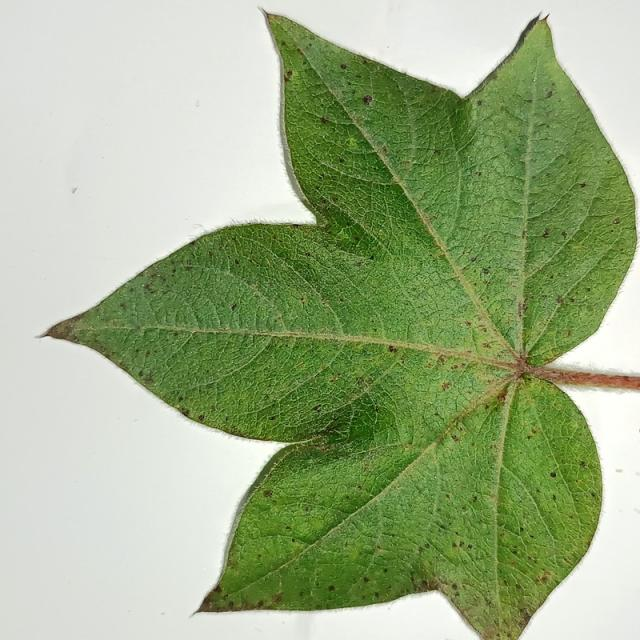Bacterial_Blight: (402, 324, 459, 350), (315, 425, 360, 448), (423, 577, 444, 593), (479, 622, 498, 639), (346, 545, 363, 562), (346, 135, 360, 149), (536, 573, 551, 584), (482, 266, 494, 279), (519, 373, 534, 382), (142, 282, 154, 293), (518, 301, 528, 314), (419, 580, 431, 590), (291, 222, 306, 229), (441, 381, 451, 391), (497, 393, 507, 403), (144, 374, 154, 384), (481, 341, 493, 349), (131, 323, 143, 331), (362, 95, 372, 104), (212, 585, 222, 594), (187, 238, 197, 247), (438, 355, 447, 364), (273, 594, 282, 603), (284, 70, 292, 80), (477, 324, 487, 332), (297, 48, 305, 58), (425, 360, 435, 368), (451, 434, 460, 442), (388, 345, 397, 353), (263, 490, 272, 498), (182, 409, 190, 418), (519, 607, 528, 615), (227, 560, 236, 568), (541, 230, 549, 238), (313, 405, 321, 413), (556, 296, 564, 304), (356, 376, 364, 384), (545, 90, 553, 98), (119, 302, 127, 310), (231, 302, 238, 311), (184, 263, 193, 270), (330, 376, 339, 383), (300, 295, 307, 304), (521, 230, 527, 240), (198, 414, 205, 422), (321, 117, 329, 124), (464, 320, 472, 327), (433, 148, 441, 155), (173, 330, 181, 337), (363, 58, 371, 65), (565, 329, 572, 337), (376, 544, 384, 551), (470, 256, 477, 263), (561, 231, 568, 238), (579, 460, 586, 467), (451, 583, 458, 590), (257, 600, 264, 607), (563, 556, 570, 563), (222, 594, 229, 601), (72, 335, 79, 342), (71, 187, 78, 194), (579, 182, 587, 188), (451, 364, 459, 370), (381, 146, 387, 154), (549, 472, 556, 478), (614, 218, 621, 224), (338, 297, 345, 303), (340, 64, 347, 70), (328, 586, 335, 592), (472, 495, 478, 502), (374, 405, 380, 412), (320, 198, 327, 204), (138, 370, 144, 377), (515, 584, 522, 590), (176, 403, 182, 410), (339, 157, 345, 163), (354, 236, 360, 242), (369, 254, 375, 260), (363, 577, 369, 583), (477, 100, 483, 106), (234, 259, 240, 265), (270, 416, 276, 422), (459, 541, 465, 547), (178, 396, 184, 402), (590, 491, 596, 497), (228, 601, 234, 607), (280, 41, 286, 47), (475, 171, 482, 176), (285, 525, 292, 530), (357, 484, 362, 491), (195, 100, 200, 107), (305, 252, 311, 257), (467, 544, 472, 550), (291, 537, 296, 543), (545, 173, 551, 178), (372, 326, 377, 332), (374, 592, 379, 598), (616, 469, 623, 473), (445, 494, 450, 499), (552, 494, 556, 500), (160, 612, 165, 615), (639, 429, 640, 434)
Cotton: (46, 14, 639, 639)
